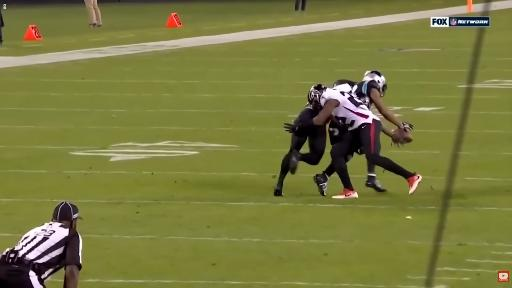Helmet: (363, 71, 387, 96), (308, 84, 326, 107), (358, 95, 370, 107)
Jersey: (320, 85, 379, 130), (353, 80, 379, 108), (334, 80, 356, 87)
Player: (286, 85, 421, 198), (274, 126, 326, 196), (334, 71, 399, 121)
